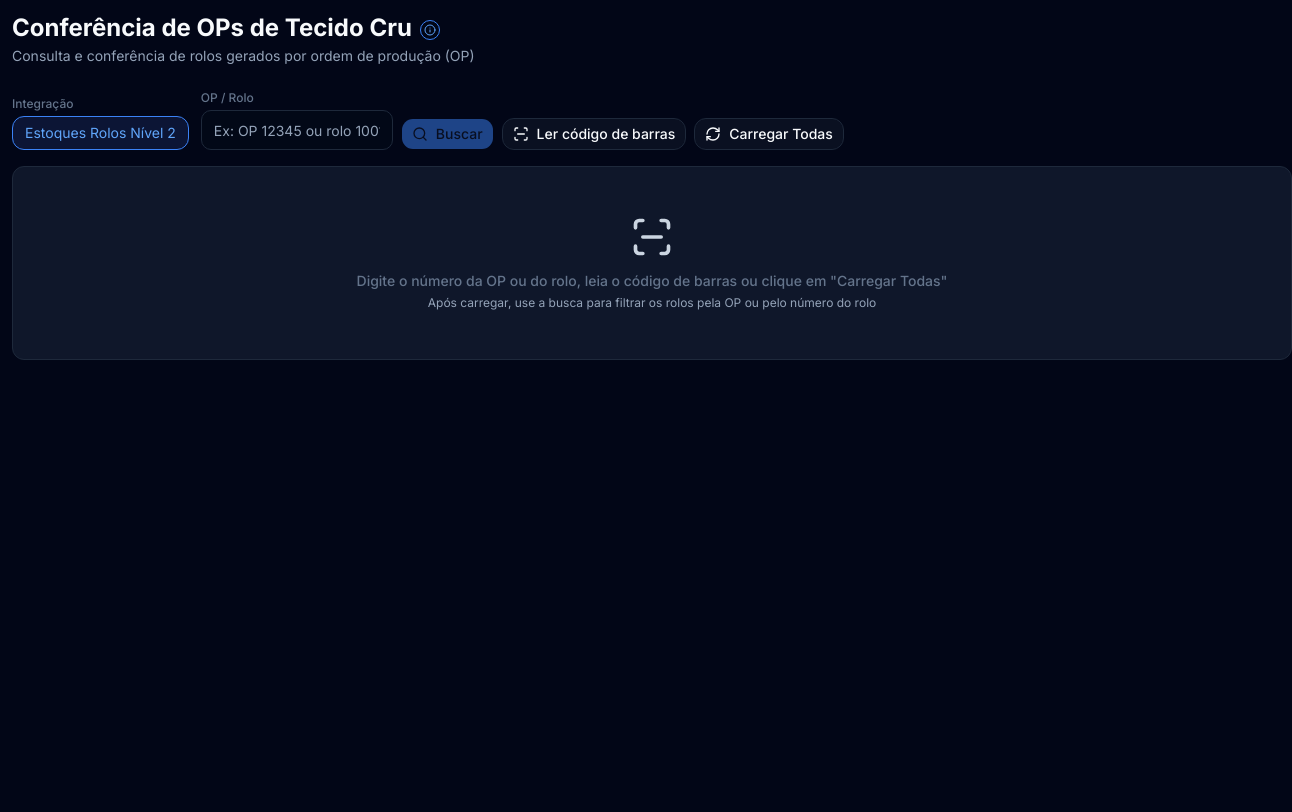
Scenario: ConferenciaOpTecidoCruPage › filtra os rolos pelo número do rolo
Expected: the button "Estoques Rolos Nível 2" is shown, [12,116,189,150]
Click the button "Carregar Todas".
click(769, 134)  # box [694,118,844,150]
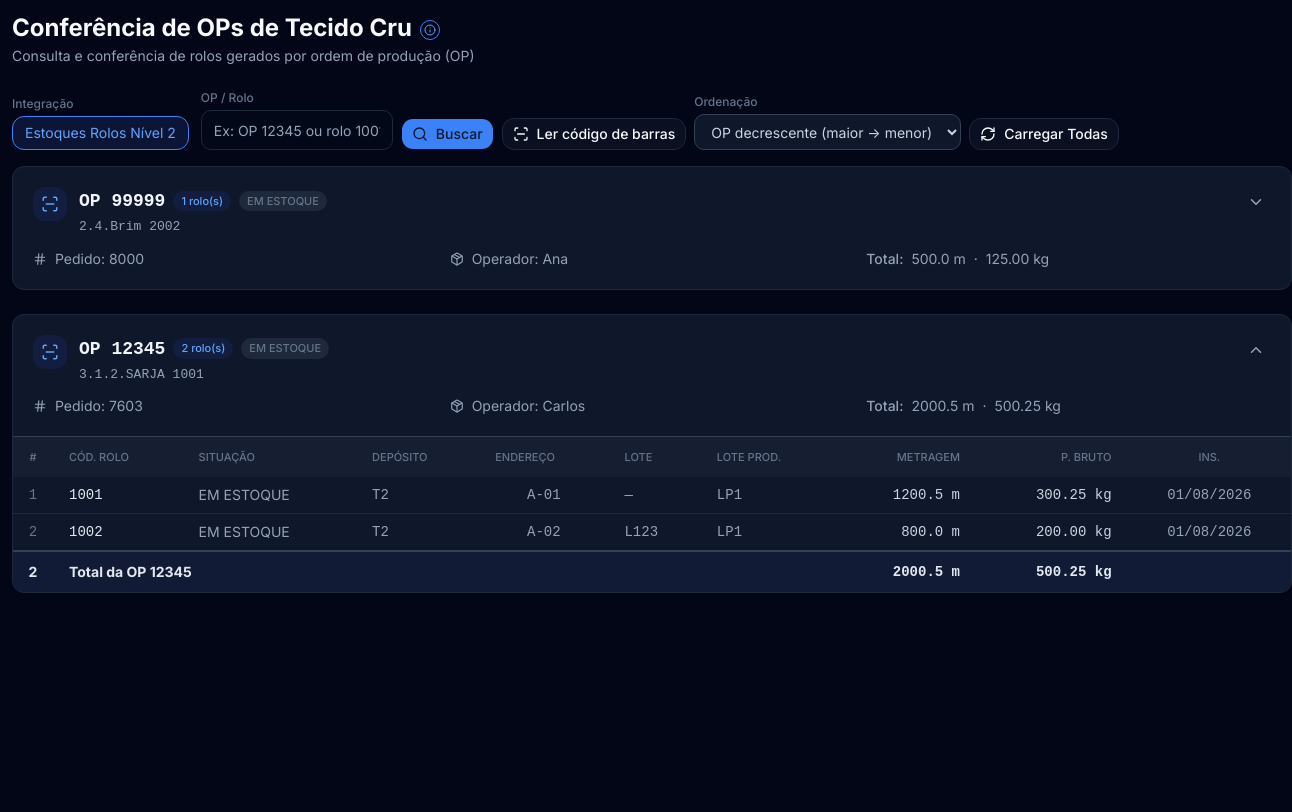
Now the heading "OP 12345" is shown, box [79,334,165,362]
Type "1002" into the field with placeholder "Ex: OP 12345 ou rolo 1001".
click(297, 130); type("1002")  # box [201,110,393,150]
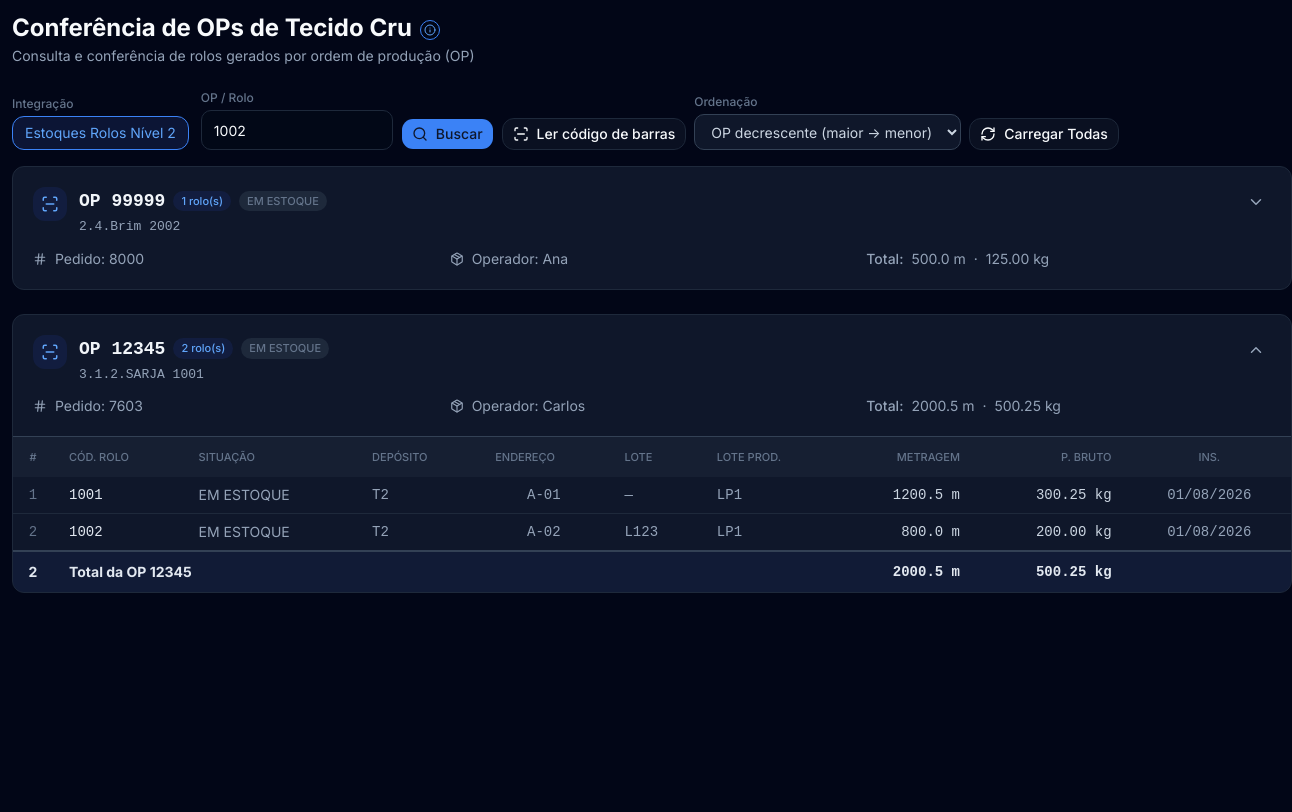
Click the button "Buscar".
click(447, 134)  # box [401,118,494,150]
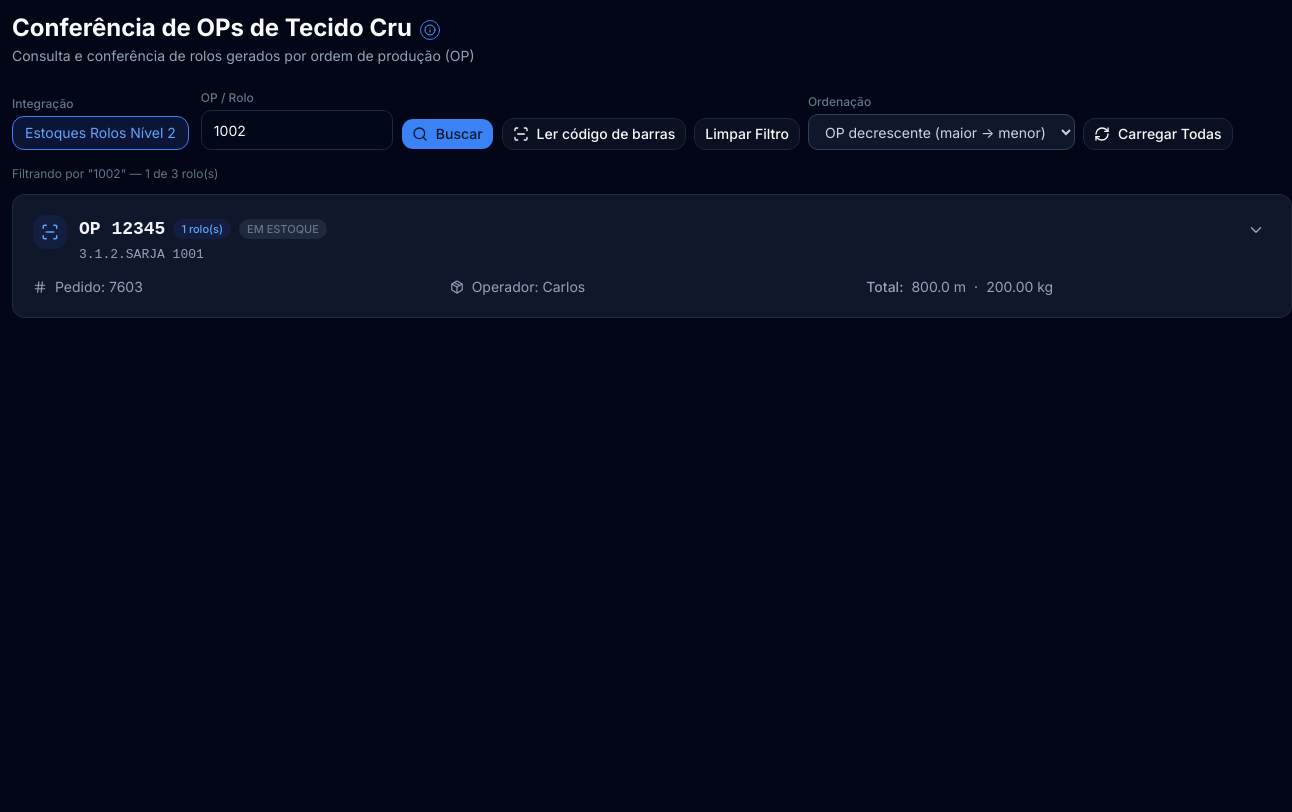
Now the heading "OP 12345" is shown, box [79,215,165,243]
Now the text "Filtrando por \"1002\" — 1 de 3 rolo(s)" is shown, box [12,166,218,181]
Now the heading "OP 99999" is gone
